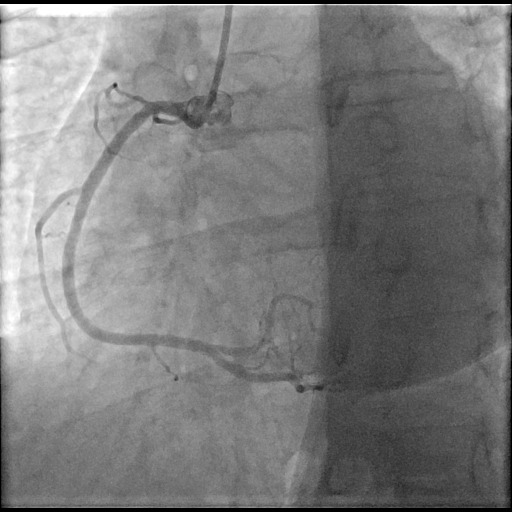RCA: (65, 89, 296, 381)
catherter: (205, 7, 234, 113)
